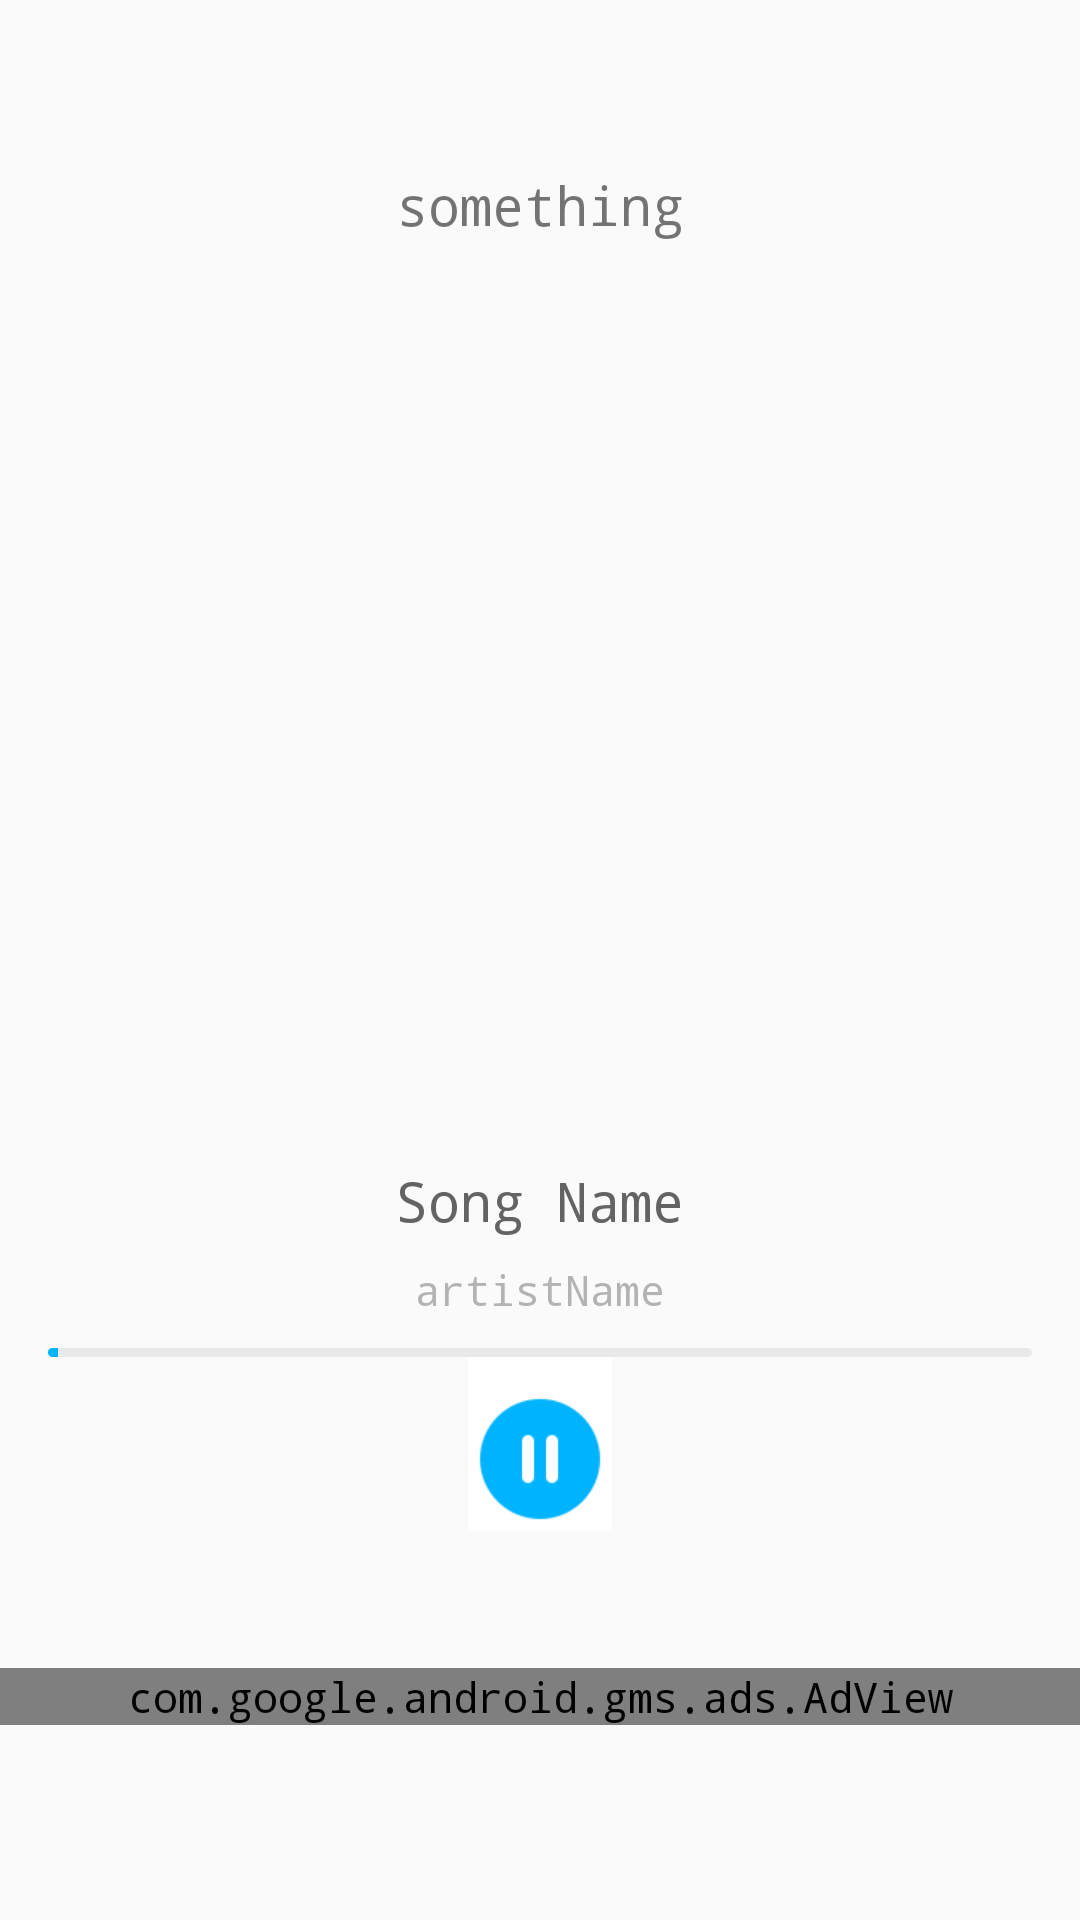

Icons on this 1080*1920 Android screen, each with the point to tap as [x,y]:
pause: [540,1459]
